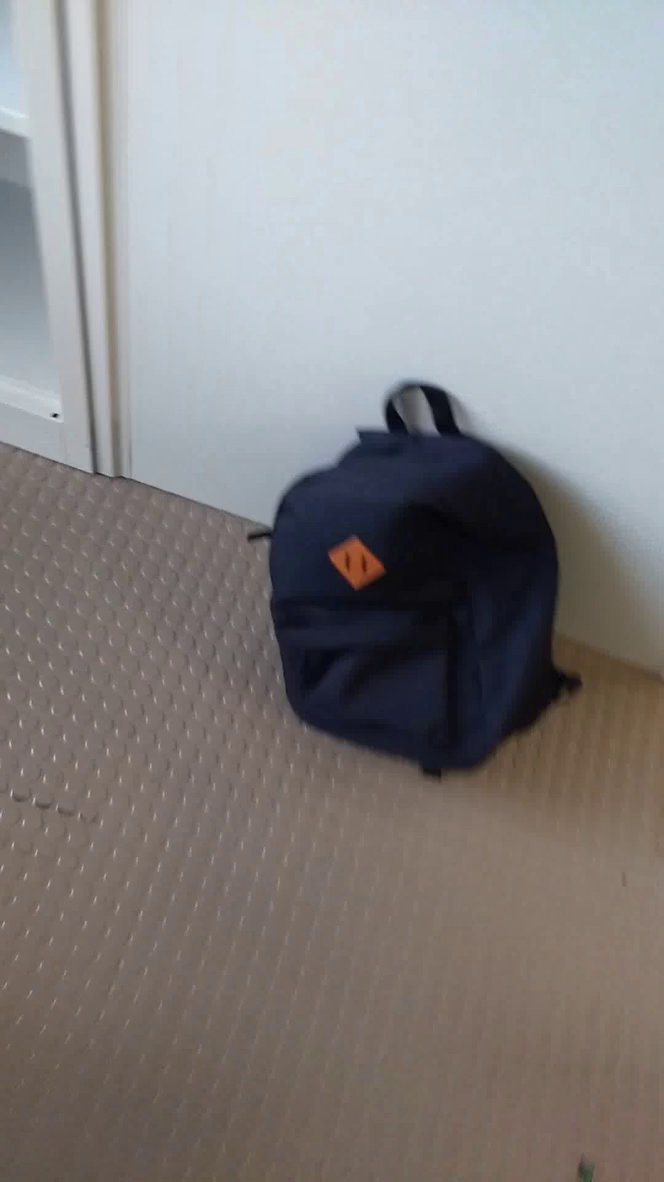bag: (232, 376, 616, 786)
